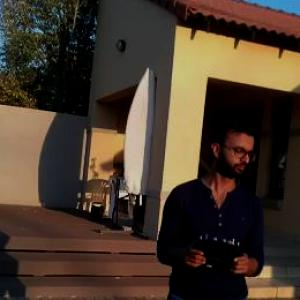follow: (153, 108, 270, 299)
